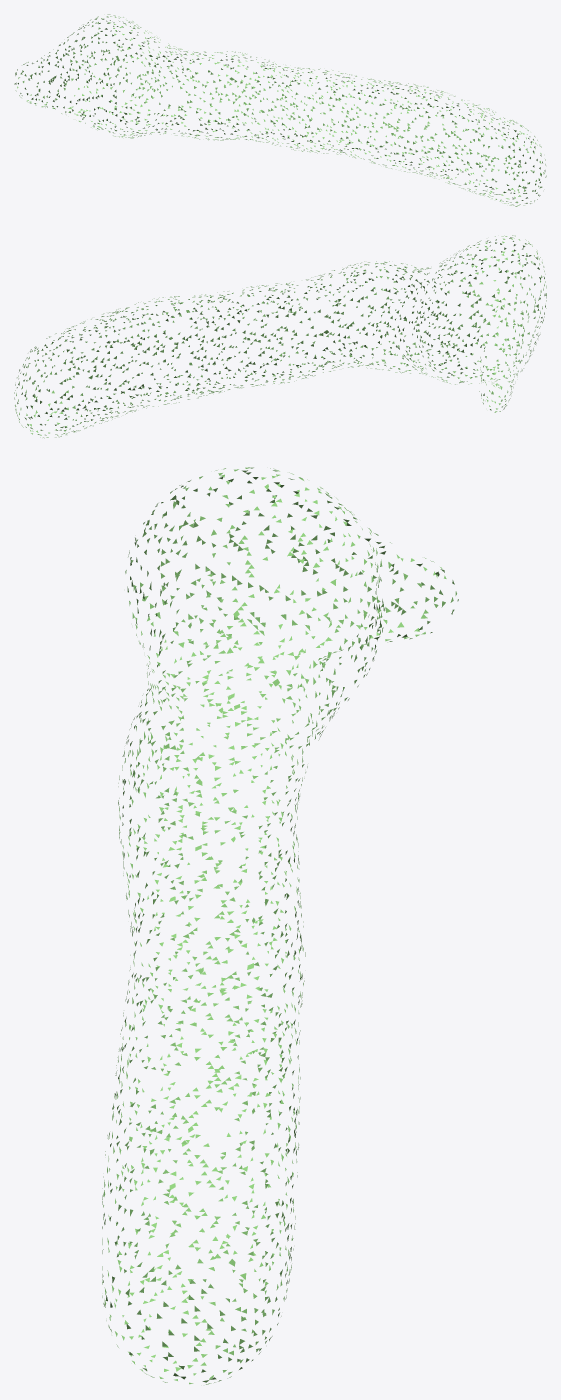
The model's file is morph_015.glb.
3 renders of one model, top to bottom at view 1: azimuth 30°, elevation 25°; view 2: azimuth 150°, elevation 25°; view 3: azimuth 270°, elevation 25°, orthographic. The views are drawn at different scales.
Bounding box in the file's own units: 121 × 67.1 × 40.86.
